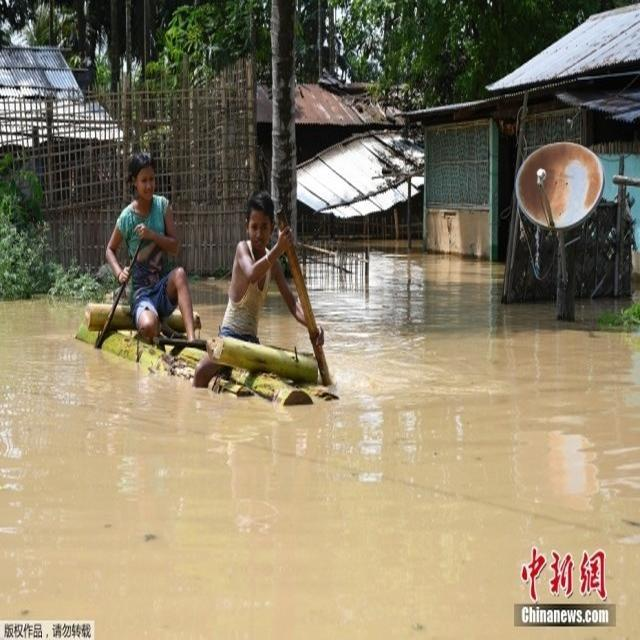Person-RiskLevel3: (224, 182, 337, 382), (101, 146, 207, 352)
